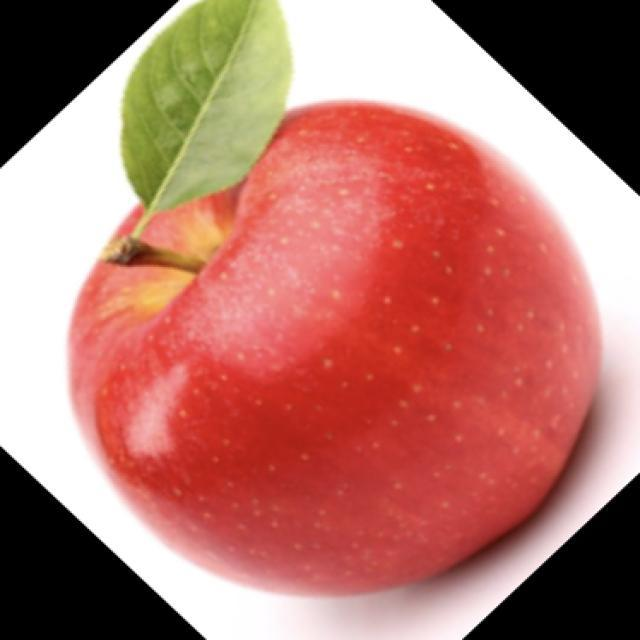Apple: (66, 97, 603, 598)
